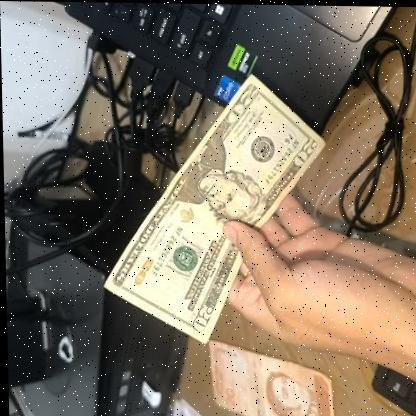dollar_front: (98, 68, 333, 346)
